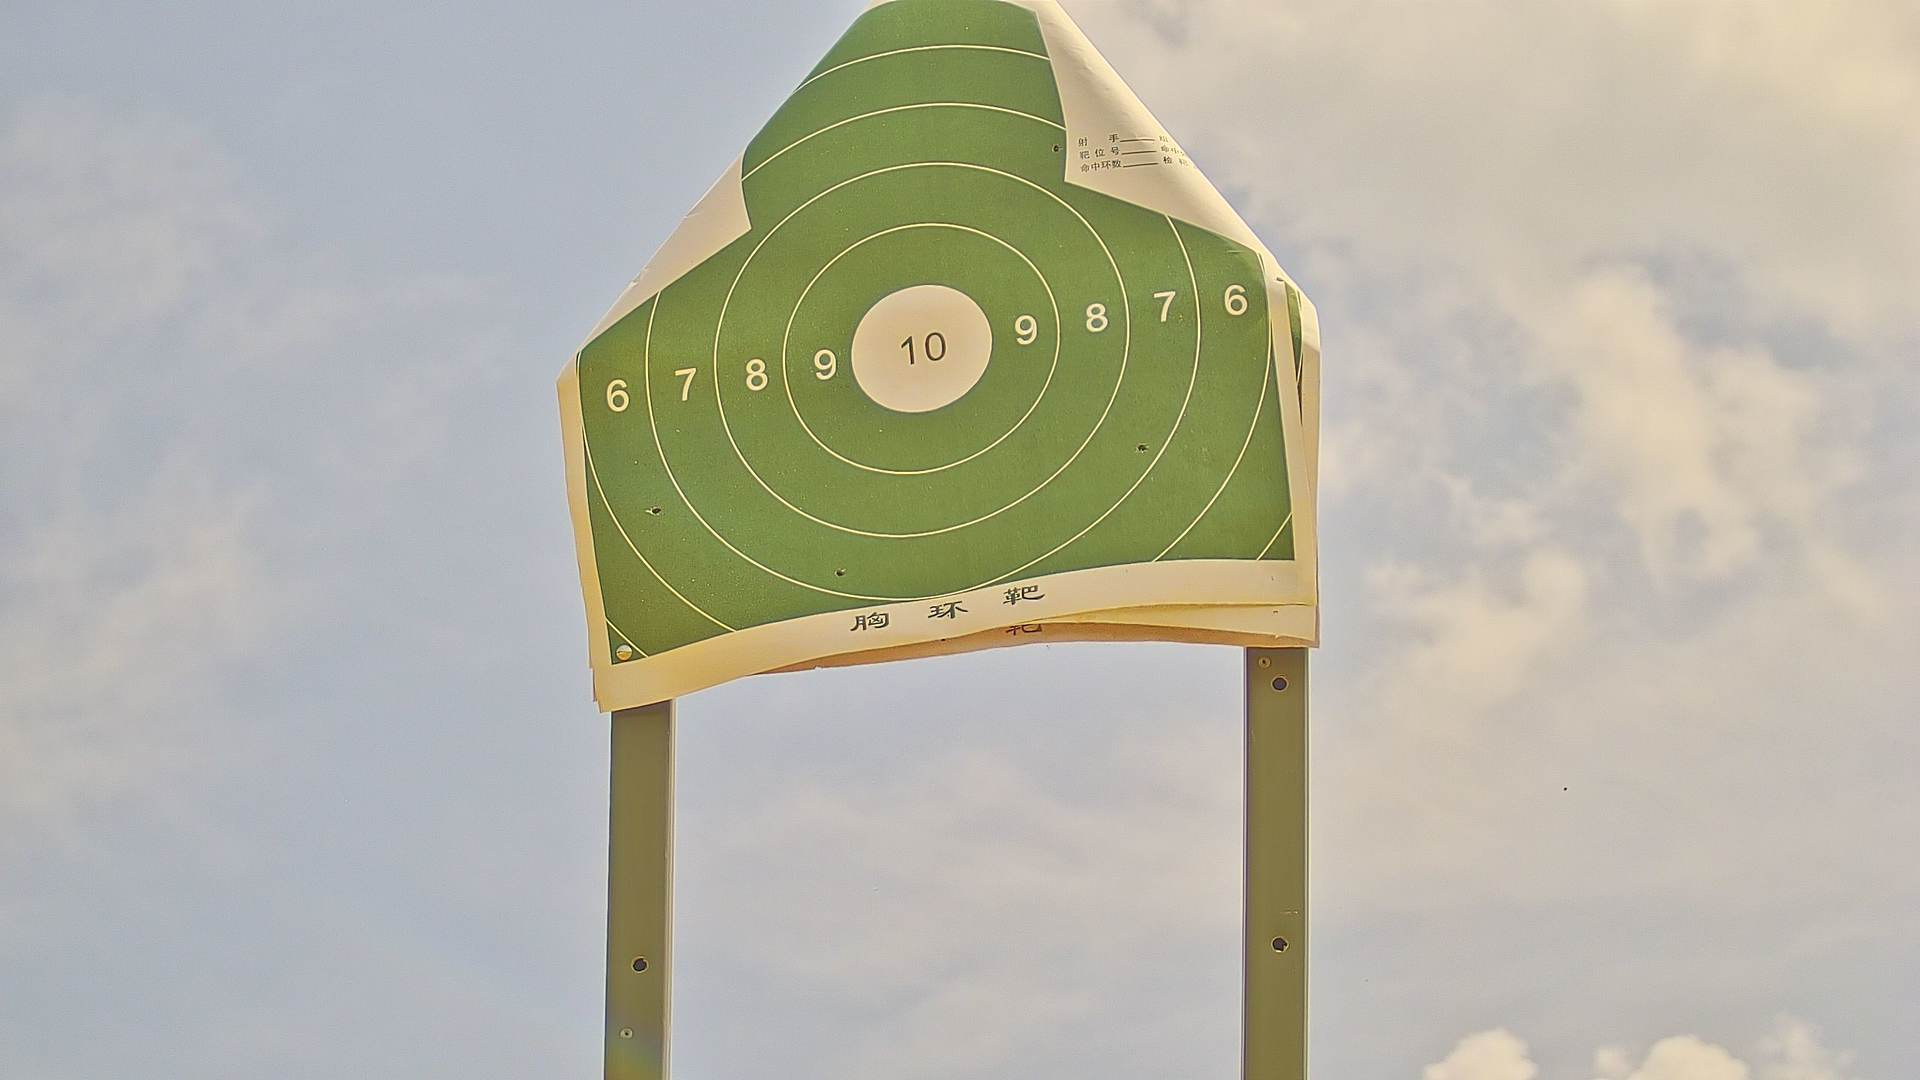hole: (645, 502, 666, 520), (1134, 438, 1153, 456), (833, 564, 852, 580), (1048, 138, 1063, 156)
kernel: (915, 345, 928, 355)
target: (571, 5, 1298, 669)
ten: (848, 278, 993, 415)
